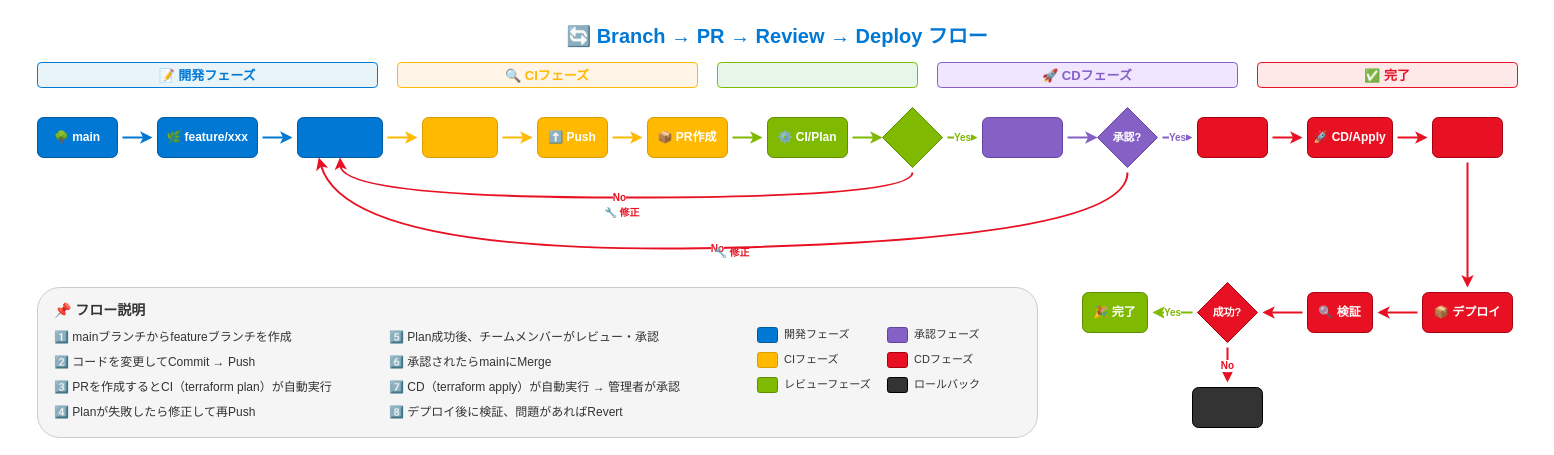
Image size: 1554x455. Some labels were removed from this diagram. The centre of each missing label's shape, as x and y in pixels:
"Plan OK?" goes at pixel 912 137.
"⏪ Revert" goes at pixel 1227 407.
"✏️ 変更実施" goes at pixel 339 137.
"👀 レビュー" goes at pixel 1022 137.
"👀 レビューフェーズ" goes at pixel 817 75.
"👤 承認" goes at pixel 1467 137.
"💾 Commit" goes at pixel 460 137.
"🔀 Merge" goes at pixel 1232 137.
